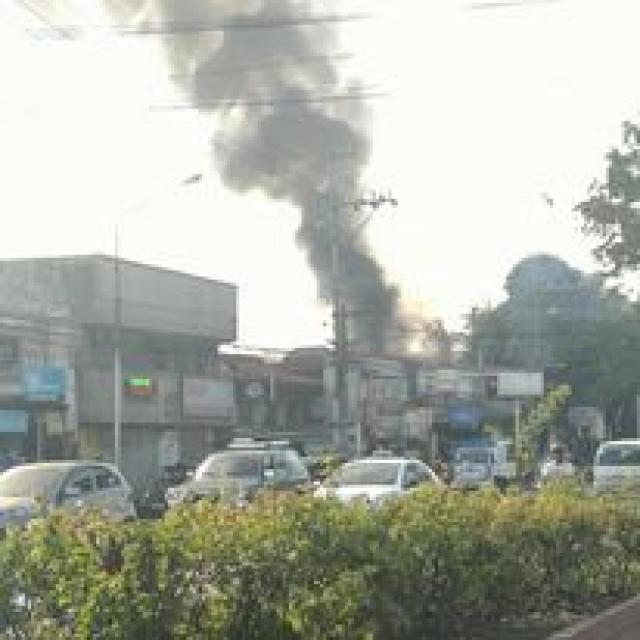Smoke: (155, 0, 402, 361)
